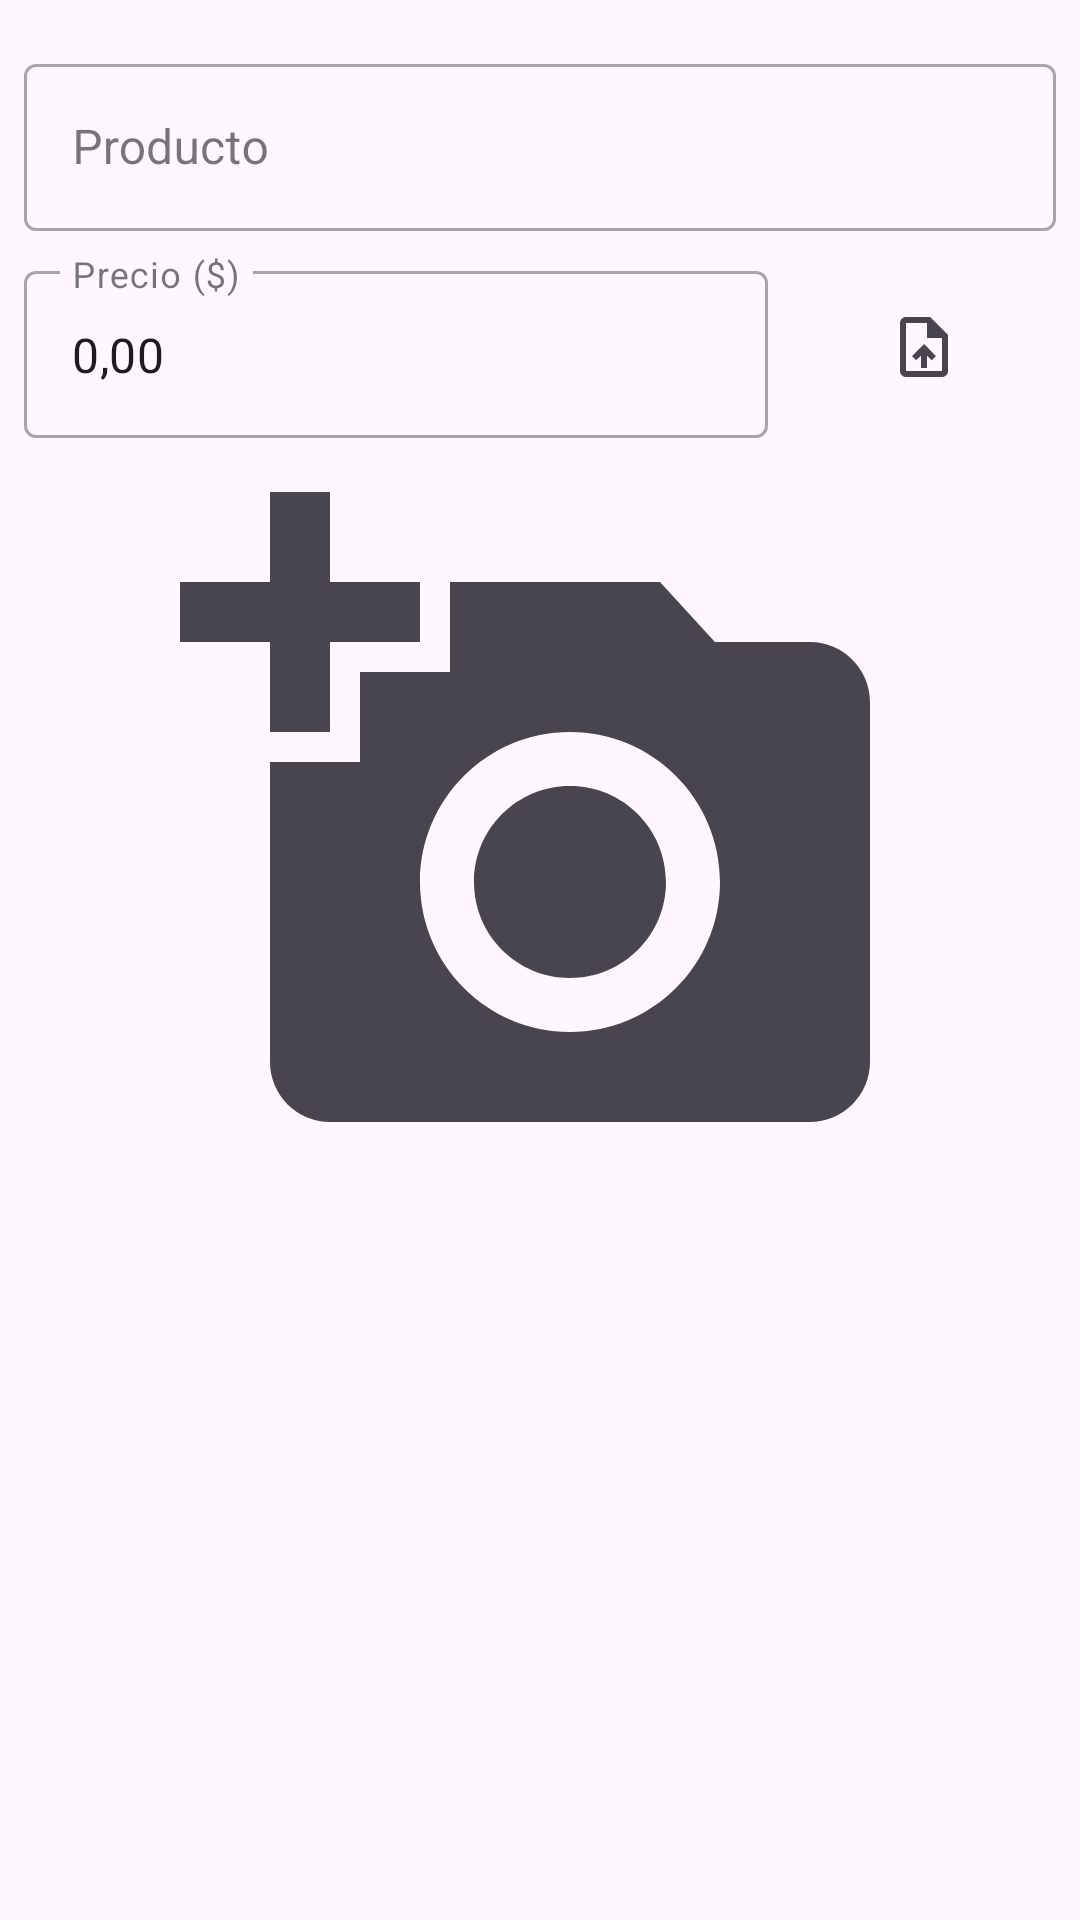

Screen size 1080px×1920px. Icon name, then its box in pixels as (x1, y1, x2, y2):
upload pdf: (900, 317, 948, 377)
